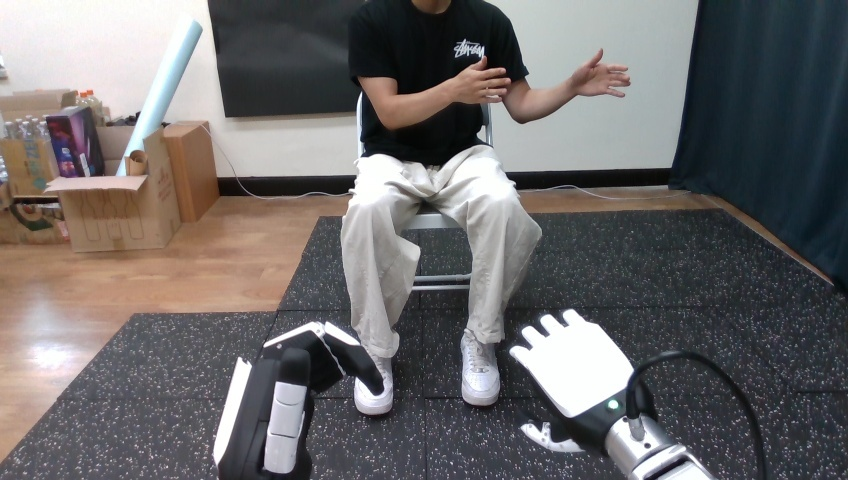left robot hand: (510, 309, 766, 479), (214, 322, 383, 478), (570, 49, 629, 97), (451, 56, 510, 103)
